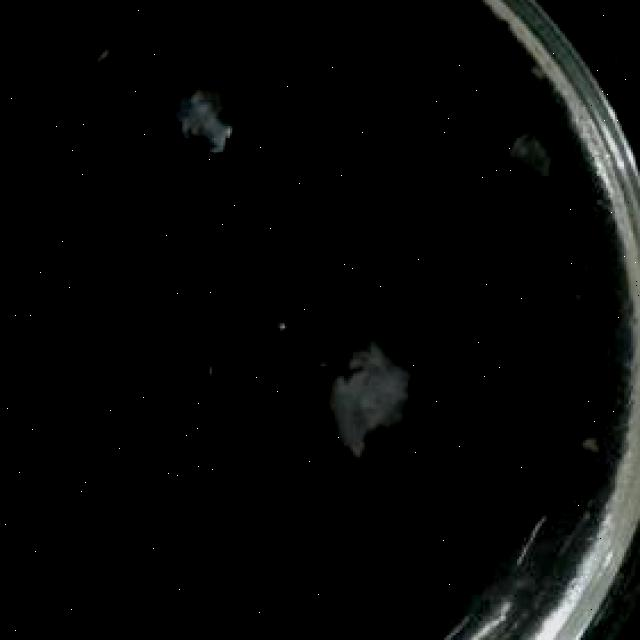Microplastic: (319, 326, 428, 495), (166, 62, 262, 162), (515, 109, 576, 188)
